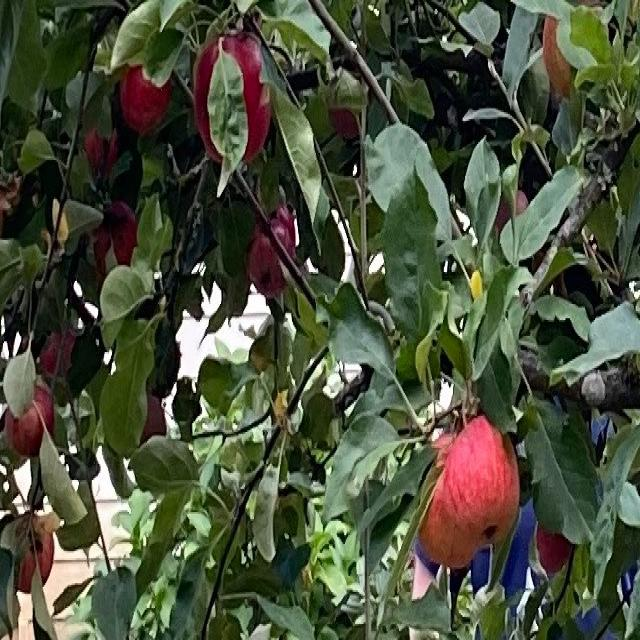Apples: (445, 418, 519, 548), (196, 39, 268, 165), (419, 436, 478, 567), (545, 0, 599, 100), (249, 206, 294, 295), (5, 380, 54, 457), (119, 64, 169, 132), (12, 512, 54, 592), (91, 202, 136, 276), (327, 71, 364, 135), (539, 519, 569, 573), (39, 332, 74, 378), (139, 395, 168, 448)
